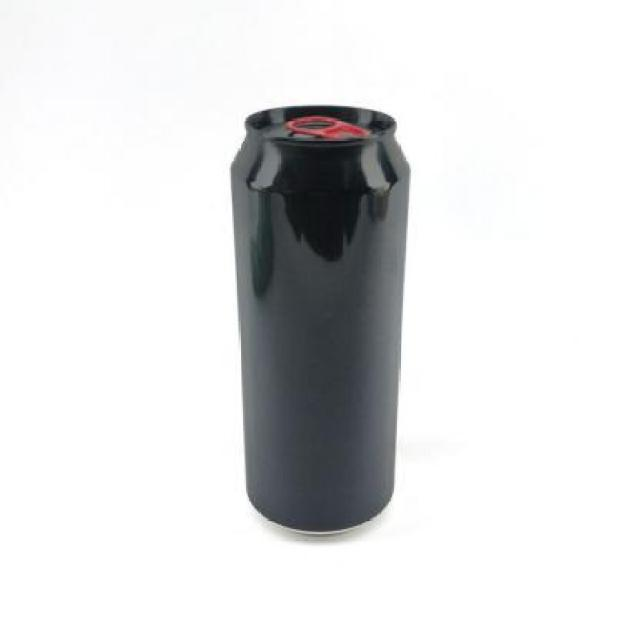can: (186, 57, 472, 570)
